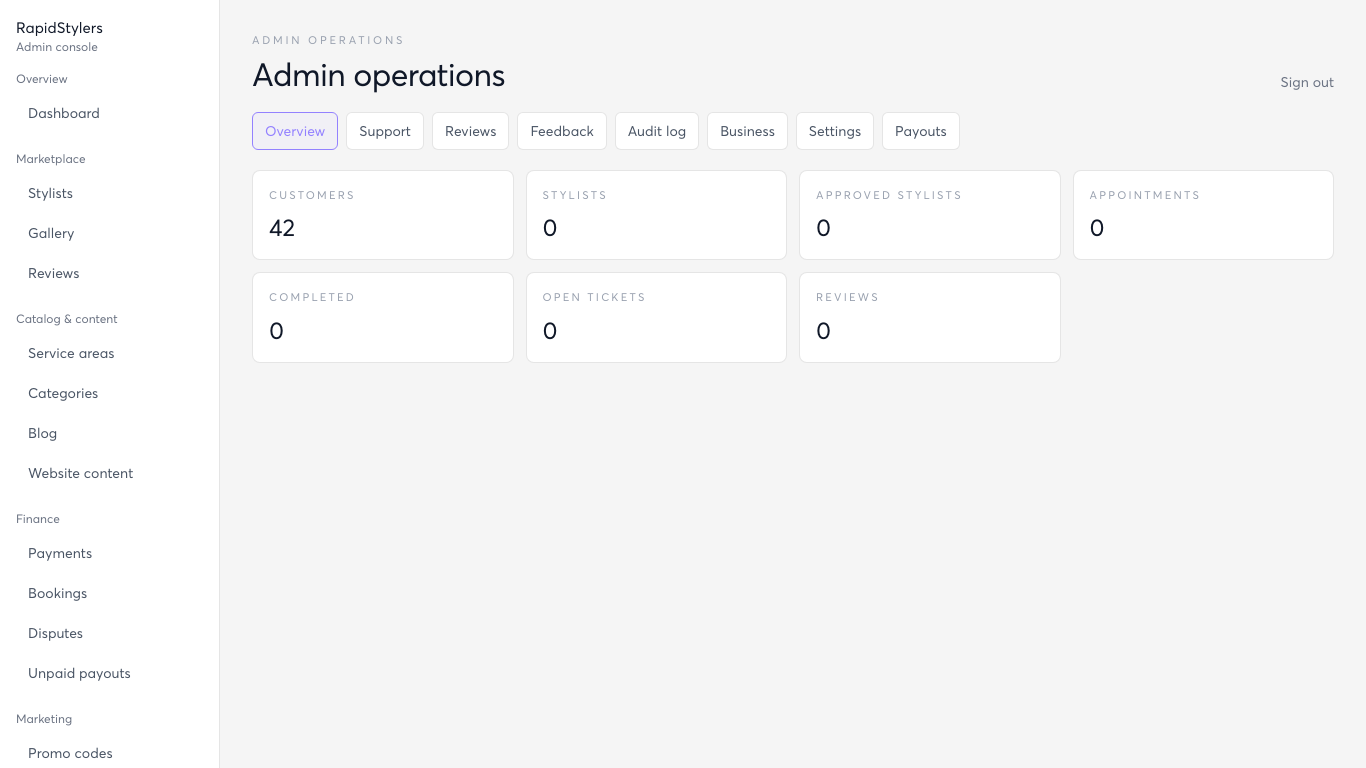
retains successful operations sections when another read fails
Expected: the text "42" is shown, [269, 213, 295, 241]
Click the button "Audit log" at [657, 131], box [615, 112, 699, 150]
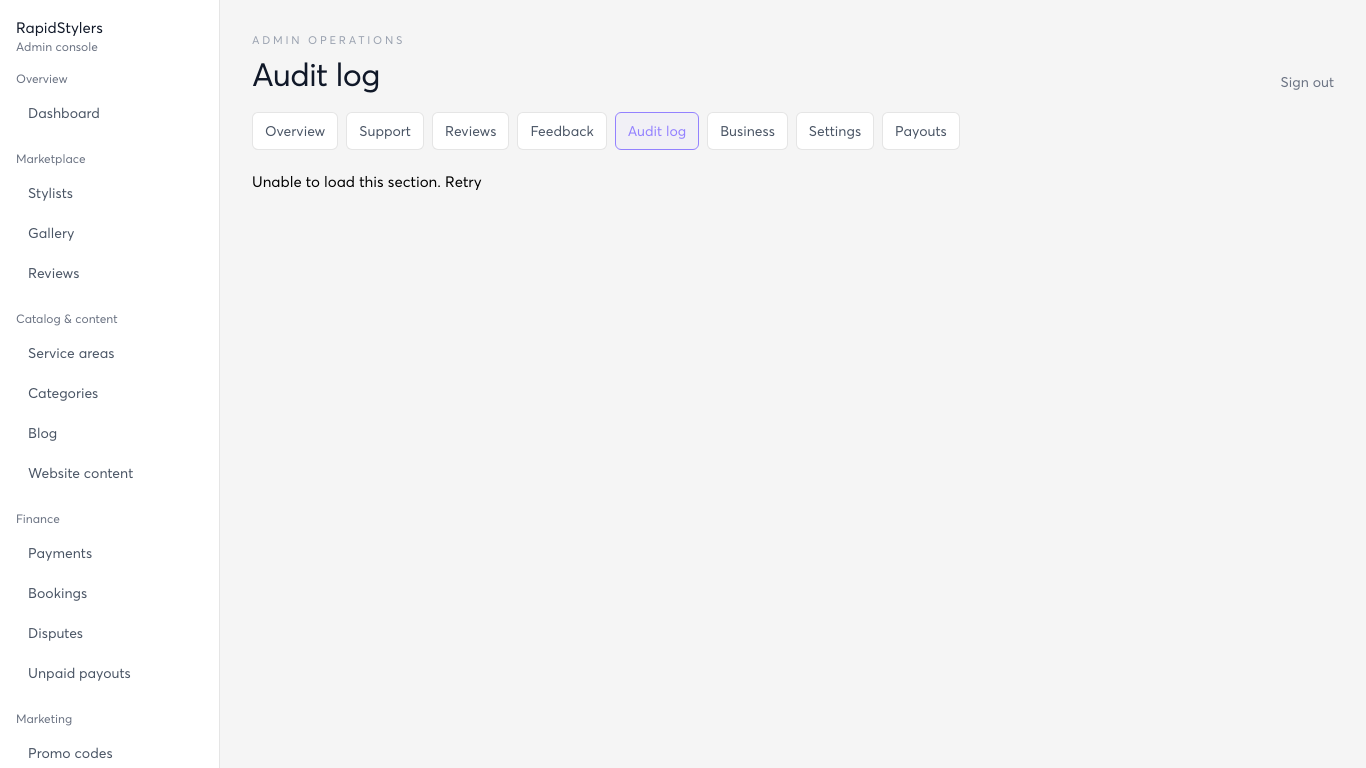
Expected: the message shows "Unable to load", [252, 172, 441, 190]
